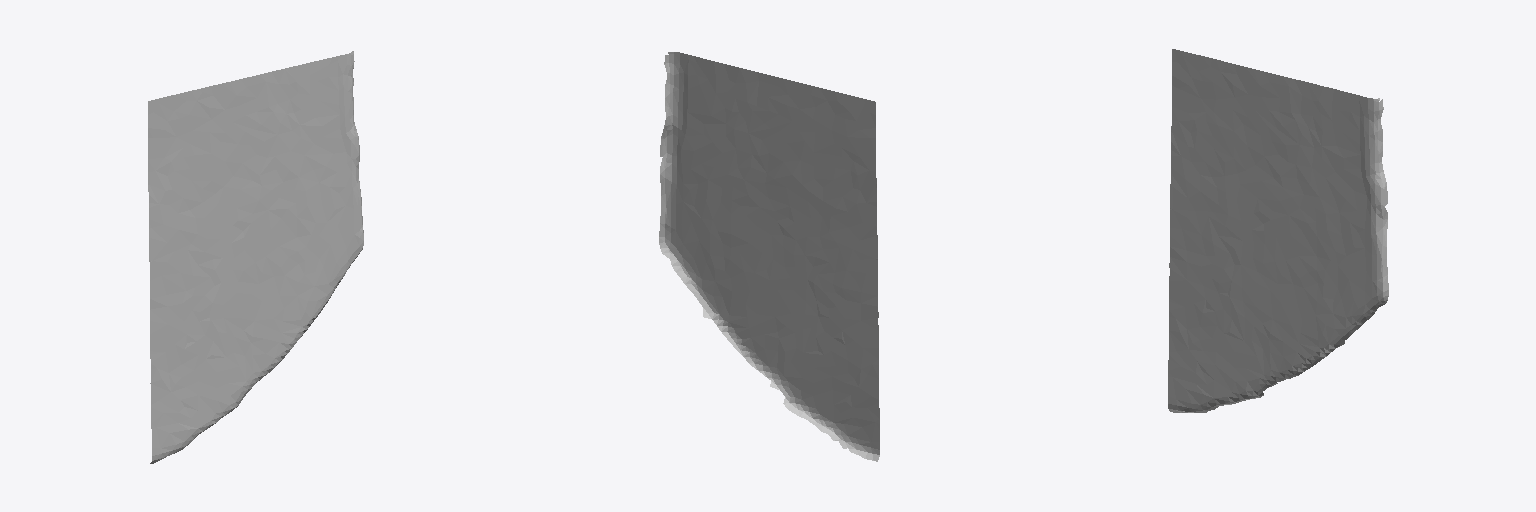
Rendered from split4.obj.
The picture shows the model from 3 angles: view 1: azimuth 30°, elevation 25°; view 2: azimuth 150°, elevation 25°; view 3: azimuth 330°, elevation 25°; orthographic projection.
Size of the model in its own units: 0.2814 by 0.4487 by 0.019.